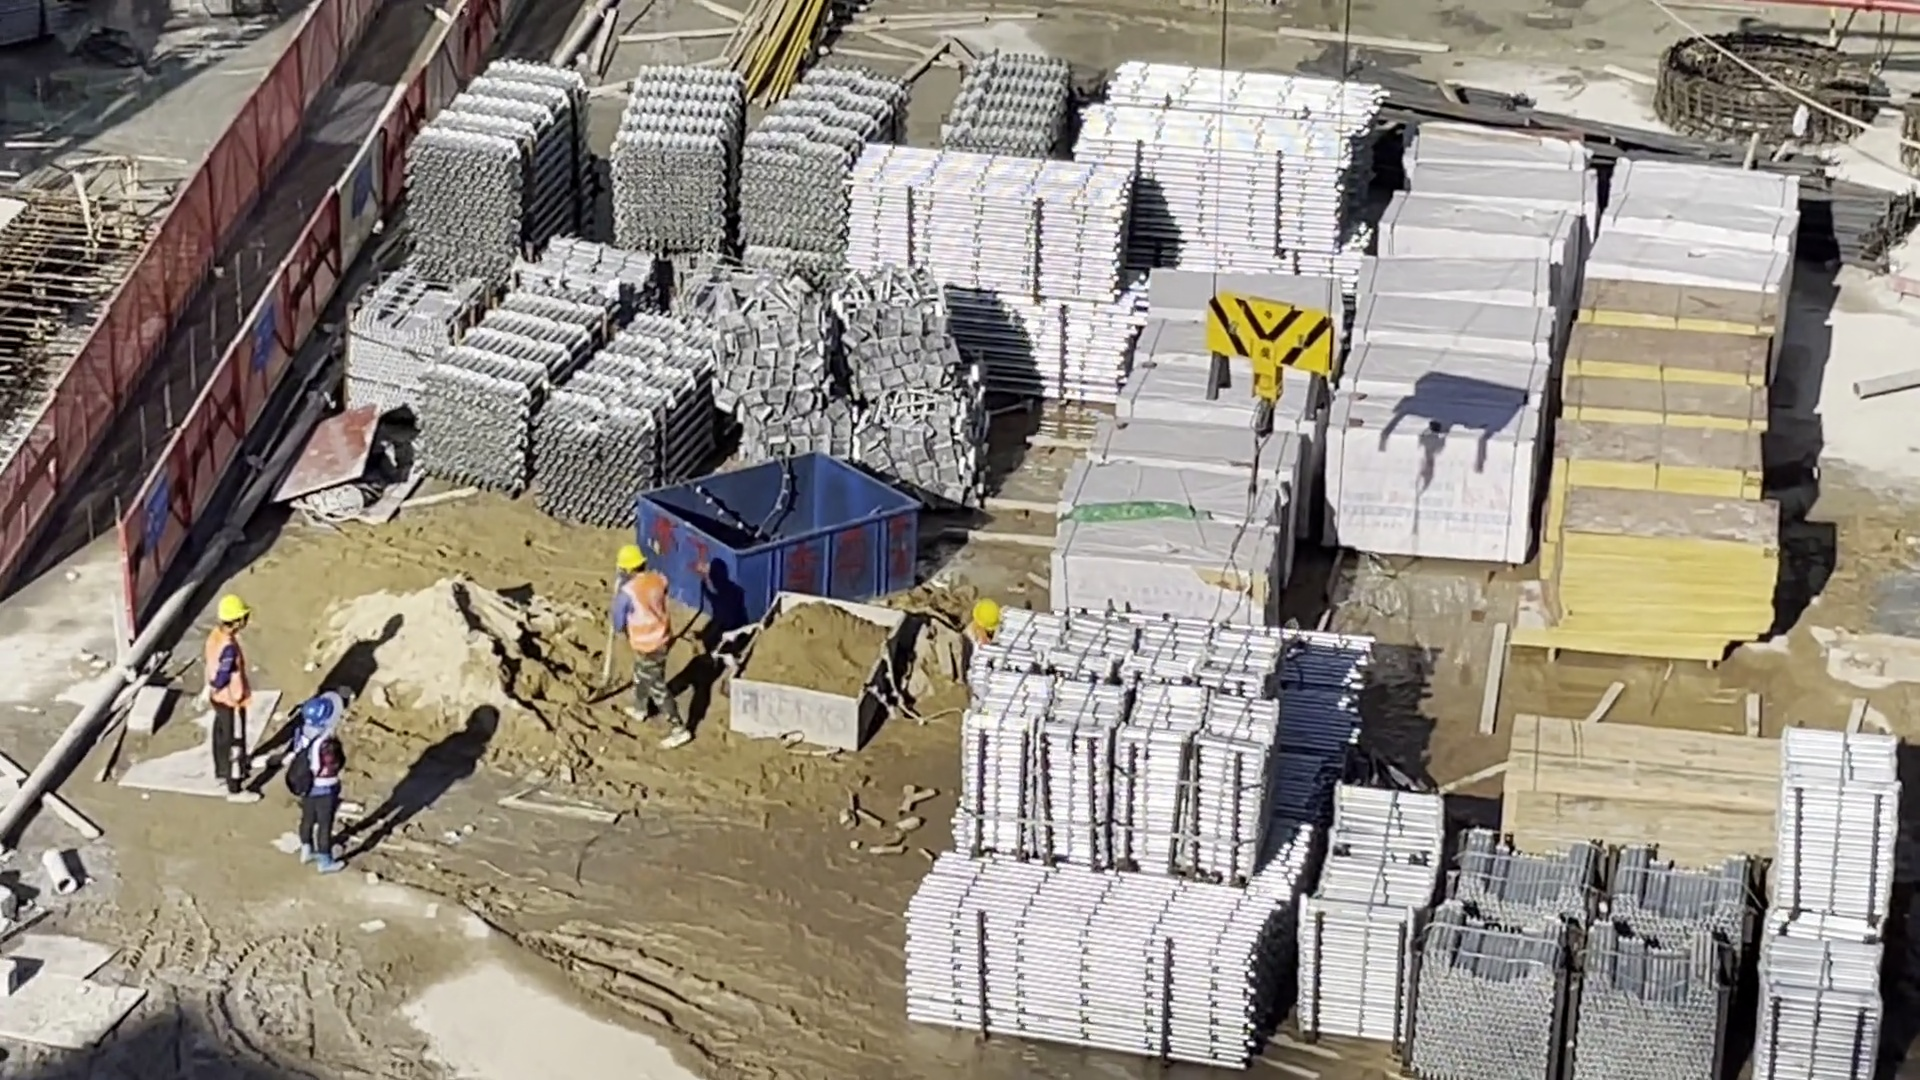fence: (21, 1, 503, 622)
helmet: (605, 548, 658, 587), (210, 590, 251, 634), (963, 593, 1006, 634), (297, 695, 344, 728)
hook: (1202, 276, 1335, 417)
hopper: (635, 434, 920, 592), (713, 572, 929, 733)
person: (607, 545, 717, 765), (198, 582, 276, 802), (283, 690, 358, 872), (965, 594, 1011, 672)
scaffold: (953, 624, 1406, 1050), (858, 143, 1131, 407), (1460, 819, 1698, 1080), (1115, 53, 1366, 284), (1757, 730, 1919, 1080), (451, 268, 649, 507), (633, 69, 820, 255), (434, 74, 528, 241), (961, 52, 1065, 174)
vest: (621, 581, 671, 654), (202, 634, 245, 701)
